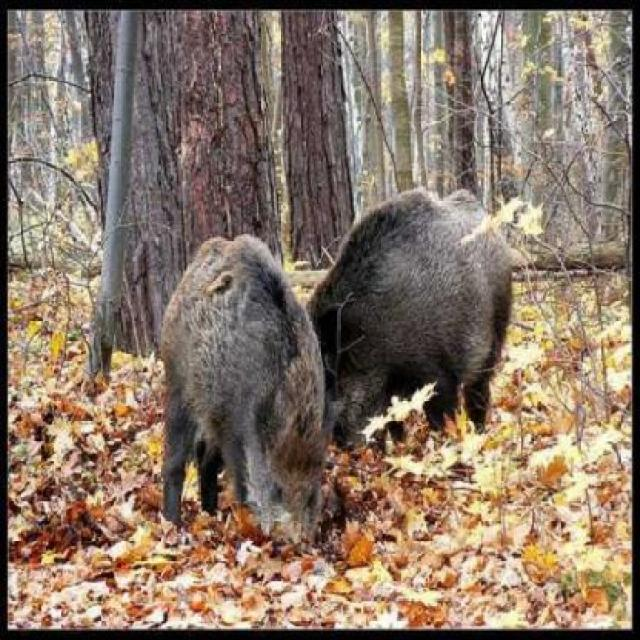pig: (270, 125, 626, 540), (132, 231, 333, 506)
